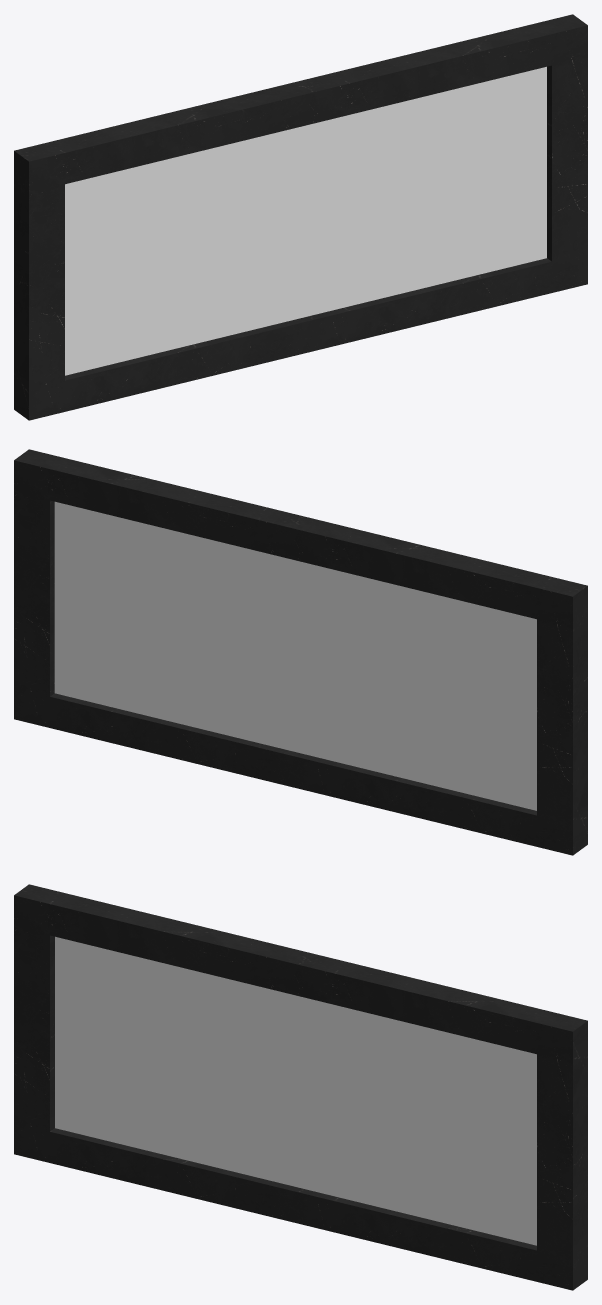
Rendered from Window.FBX.
The picture shows the model from 3 angles, top to bottom: view 1: azimuth 30°, elevation 25°; view 2: azimuth 150°, elevation 25°; view 3: azimuth 330°, elevation 25°; orthographic projection.
Visible parts, largest first — view 1: window; view 2: window; view 3: window.
Part boxes in pixels (x1,y1,x2,y2): window: (14,14,587,420); window: (14,449,587,855); window: (14,884,587,1290).
Size of the model in its own units: 89.66 by 39.69 by 4.19.
Materials: 2 (1 with a texture image).
